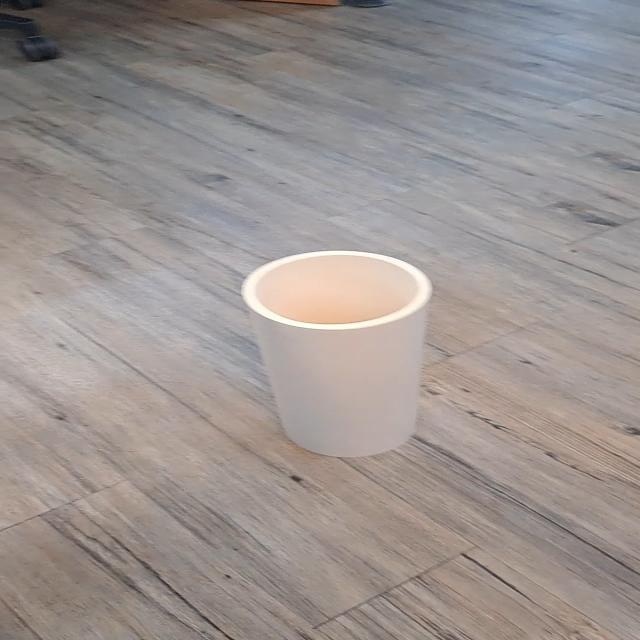CORAL: (196, 225, 523, 493)
